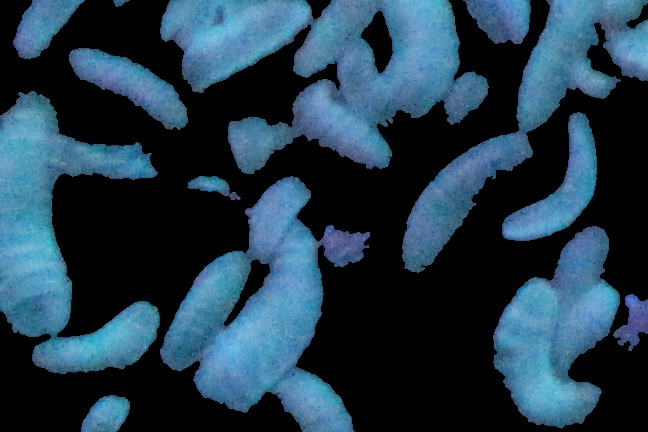larvae: (197, 218, 320, 412), (1, 92, 72, 337), (402, 134, 529, 268), (494, 284, 601, 425), (503, 113, 596, 239), (514, 1, 605, 126), (184, 1, 308, 90), (163, 248, 249, 368), (378, 1, 461, 125), (31, 300, 158, 375), (68, 49, 185, 129), (293, 82, 391, 167), (294, 1, 376, 75), (273, 363, 354, 432), (555, 282, 618, 370), (247, 177, 311, 258), (11, 1, 88, 62), (333, 45, 389, 120), (556, 228, 609, 295)
